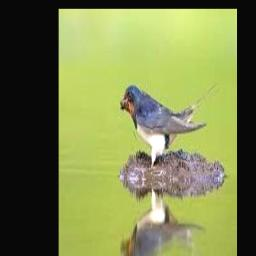Swallow: (121, 84, 219, 168)
